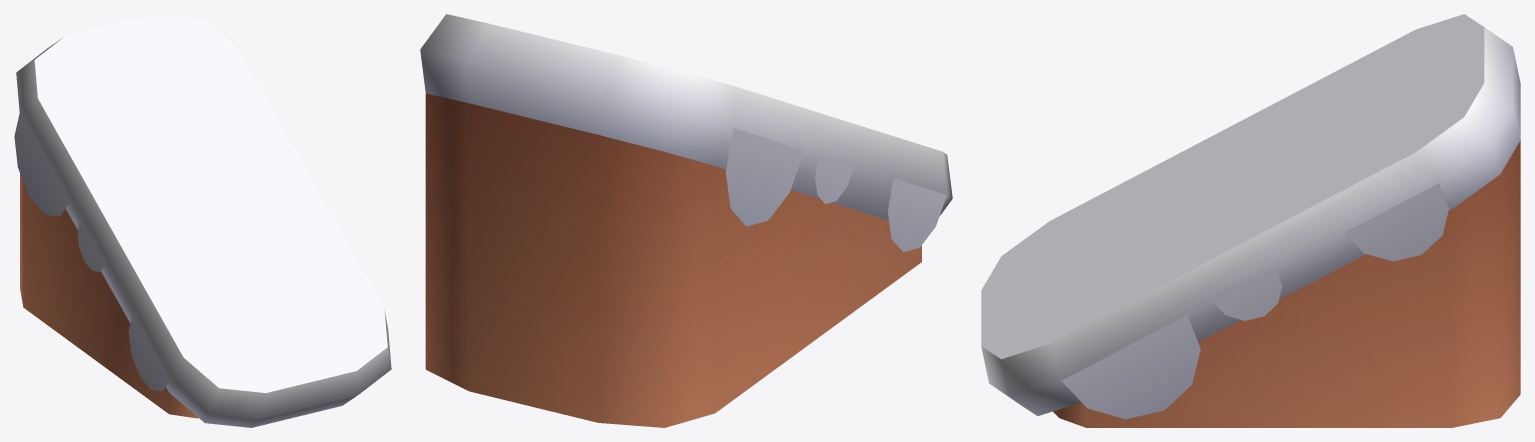
Rendered from kenney-platformer-block-snow-overhang-large-slope-steep-narrow.glb.
The picture shows the model from 3 angles, left to right: view 1: azimuth 30°, elevation 25°; view 2: azimuth 150°, elevation 25°; view 3: azimuth 270°, elevation 25°; orthographic projection. The views are drawn at different scales.
Parts seen in each view (by area): view 1: block-snow-overhang-large-slope-steep-narrow; view 2: block-snow-overhang-large-slope-steep-narrow; view 3: block-snow-overhang-large-slope-steep-narrow.
Boxes of the visible parts, x1,y1,x2,y2 form: block-snow-overhang-large-slope-steep-narrow: (14, 14, 391, 427); block-snow-overhang-large-slope-steep-narrow: (420, 14, 952, 427); block-snow-overhang-large-slope-steep-narrow: (981, 14, 1520, 427).
Size of the model in its own units: 1.08 by 1.22 by 1.86.
Materials: 1 (1 with a texture image).
